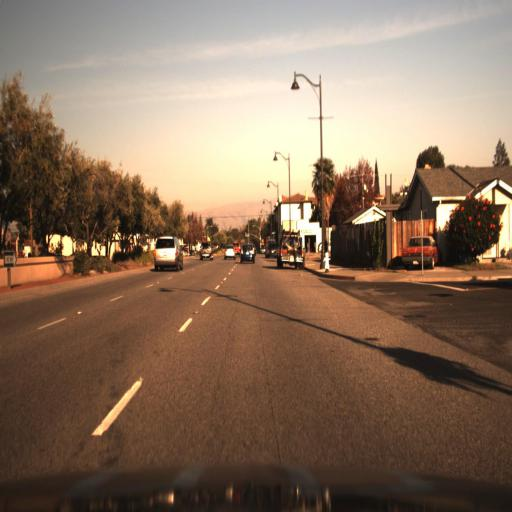car: (146, 224, 189, 284), (398, 230, 440, 273), (278, 231, 310, 275), (238, 238, 259, 272), (197, 235, 218, 265), (265, 233, 280, 263), (222, 240, 238, 264)
